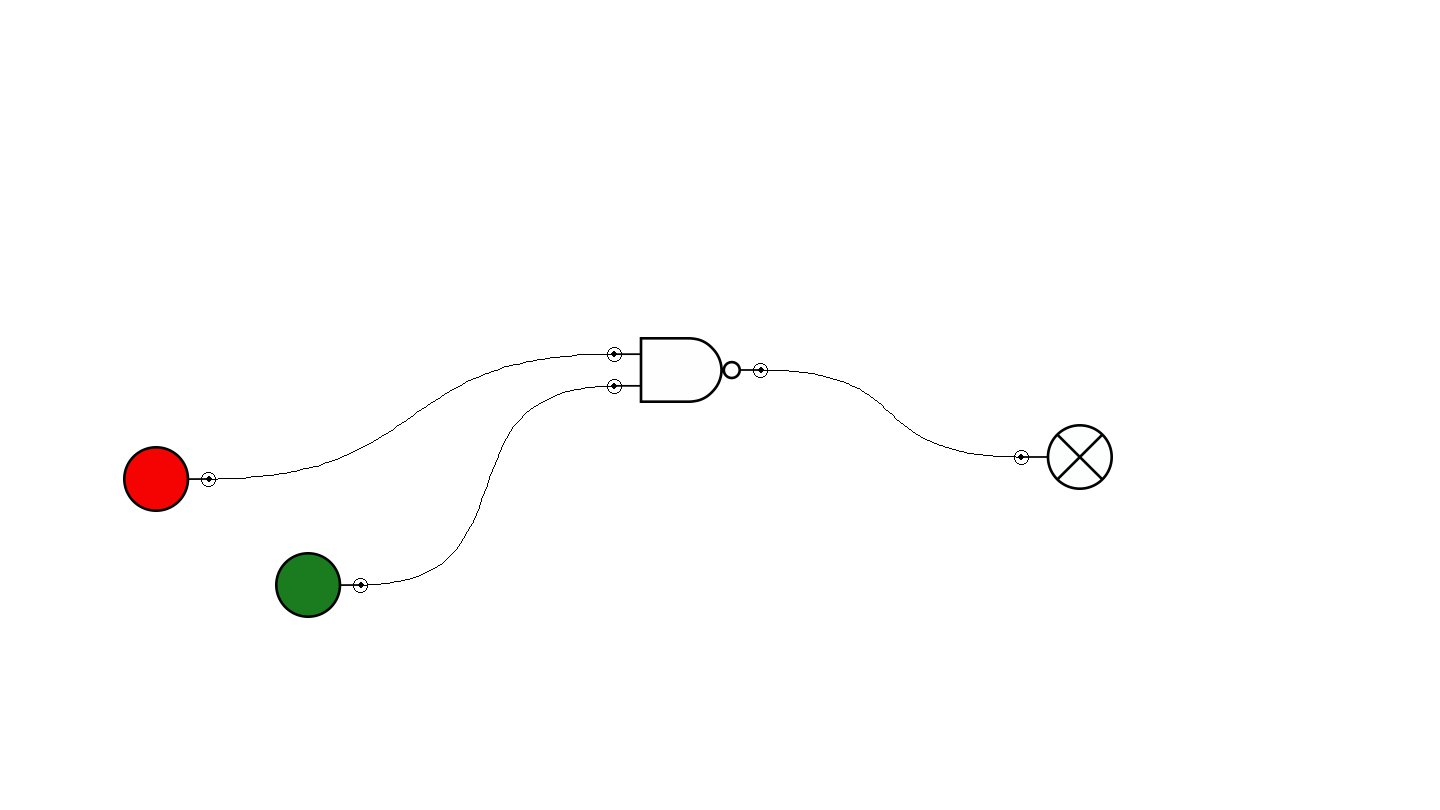bulb: (1014, 424, 1113, 490)
nand: (607, 337, 768, 403)
switch_False: (123, 446, 216, 512)
switch_True: (275, 552, 368, 618)
